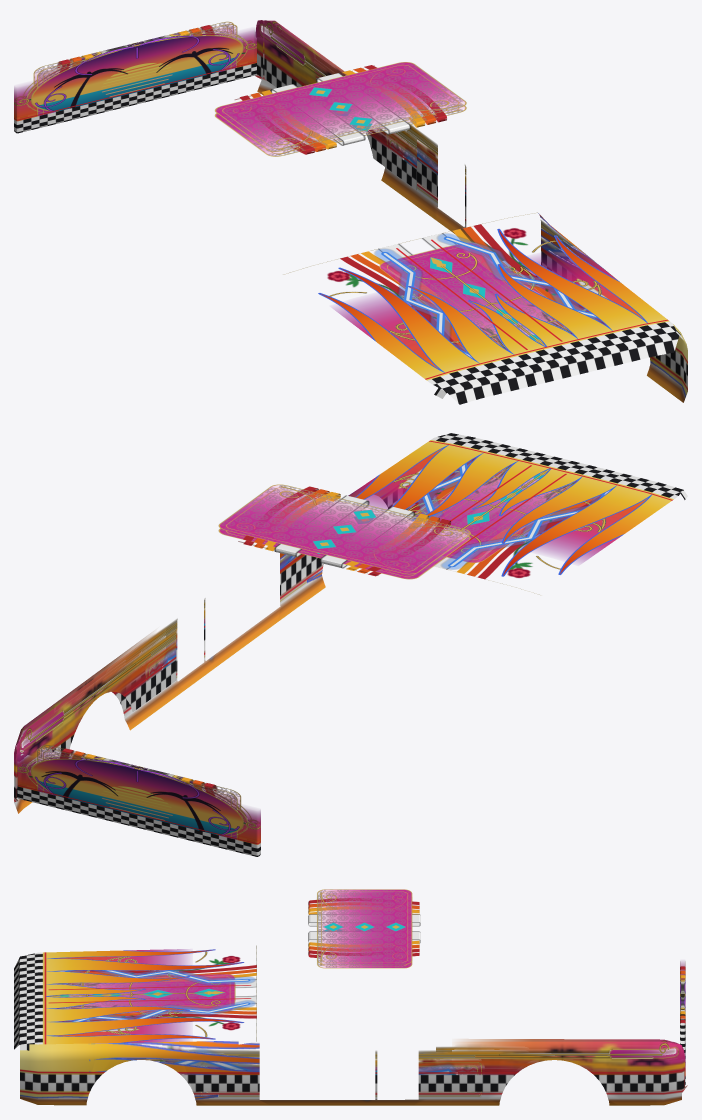
The model's file is IronhornTRXVinyls.glb.
The picture shows the model from 3 angles, top to bottom: view 1: azimuth 30°, elevation 25°; view 2: azimuth 150°, elevation 25°; view 3: azimuth 270°, elevation 25°; orthographic projection. The views are drawn at different scales.
Visible parts, largest first — view 1: IronhornTRXLivery_flames_hood, IronhornTRXLivery_patterns_roof, IronhornTRXLivery_purple_lace_roof, IronhornTRXLivery_checker_hood, IronhornTRXLivery_mural_trunk, IronhornTRXLivery_patterns_hood, IronhornTRXLivery_checker_side, IronhornTRXLivery_lightning_hood, IronhornTRXLivery_checker_trunk, IronhornTRXLivery_purple_lace_hood, IronhornTRXLivery_retro_waves_hood, IronhornTRXLivery_sunset_fade_hood (+18 smaller); view 2: IronhornTRXLivery_flames_hood, IronhornTRXLivery_patterns_roof, IronhornTRXLivery_mural_trunk, IronhornTRXLivery_purple_lace_roof, IronhornTRXLivery_patterns_hood, IronhornTRXLivery_checker_hood, IronhornTRXLivery_checker_trunk, IronhornTRXLivery_sunset_fade_side, IronhornTRXLivery_tropical_side, IronhornTRXLivery_checker_side, IronhornTRXLivery_retro_waves_roof, IronhornTRXLivery_retro_waves_side (+15 smaller); view 3: IronhornTRXLivery_flames_hood, IronhornTRXLivery_checker_side, IronhornTRXLivery_patterns_roof, IronhornTRXLivery_flames_side, IronhornTRXLivery_purple_lace_roof, IronhornTRXLivery_tropical_side, IronhornTRXLivery_patterns_hood, IronhornTRXLivery_retro_waves_side, IronhornTRXLivery_sunset_fade_side, IronhornTRXLivery_checker_hood, IronhornTRXLivery_stripes_side, IronhornTRXLivery_lightning_hood (+16 smaller).
Part boxes in pixels (x1,y1,x2,y2): IronhornTRXLivery_flames_hood: (318, 229, 669, 380); IronhornTRXLivery_patterns_roof: (215, 62, 466, 156); IronhornTRXLivery_purple_lace_roof: (216, 66, 465, 156); IronhornTRXLivery_checker_hood: (396, 239, 683, 404); IronhornTRXLivery_mural_trunk: (14, 30, 256, 113); IronhornTRXLivery_patterns_hood: (379, 242, 569, 349); IronhornTRXLivery_checker_side: (255, 50, 687, 390); IronhornTRXLivery_lightning_hood: (374, 233, 602, 357); IronhornTRXLivery_checker_trunk: (14, 61, 256, 133); IronhornTRXLivery_purple_lace_hood: (419, 254, 567, 347); IronhornTRXLivery_retro_waves_hood: (340, 224, 605, 351); IronhornTRXLivery_sunset_fade_hood: (336, 251, 642, 368); IronhornTRXLivery_flames_hood: (355, 440, 673, 576); IronhornTRXLivery_patterns_roof: (219, 484, 470, 579); IronhornTRXLivery_mural_trunk: (17, 754, 260, 836); IronhornTRXLivery_purple_lace_roof: (225, 485, 469, 576); IronhornTRXLivery_patterns_hood: (413, 467, 575, 562); IronhornTRXLivery_checker_hood: (429, 433, 687, 556); IronhornTRXLivery_checker_trunk: (17, 784, 260, 856); IronhornTRXLivery_sunset_fade_side: (14, 576, 325, 813); IronhornTRXLivery_tropical_side: (14, 632, 157, 773); IronhornTRXLivery_checker_side: (14, 491, 402, 801); IronhornTRXLivery_retro_waves_roof: (238, 486, 450, 576); IronhornTRXLivery_retro_waves_side: (14, 555, 288, 795); IronhornTRXLivery_flames_hood: (42, 949, 243, 1044); IronhornTRXLivery_checker_side: (20, 1068, 684, 1094); IronhornTRXLivery_patterns_roof: (317, 889, 411, 968); IronhornTRXLivery_flames_side: (20, 1041, 662, 1099); IronhornTRXLivery_purple_lace_roof: (317, 889, 403, 967); IronhornTRXLivery_tropical_side: (457, 1039, 684, 1071); IronhornTRXLivery_patterns_hood: (52, 974, 235, 1013); IronhornTRXLivery_retro_waves_side: (134, 1046, 684, 1084); IronhornTRXLivery_sunset_fade_side: (20, 1051, 687, 1105); IronhornTRXLivery_checker_hood: (14, 952, 250, 1050); IronhornTRXLivery_stripes_side: (20, 1086, 686, 1101); IronhornTRXLivery_lightning_hood: (59, 970, 255, 1021).
Size of the model in its own units: 7.66 by 4.74 by 22.2.
50 materials, 50 textured.
